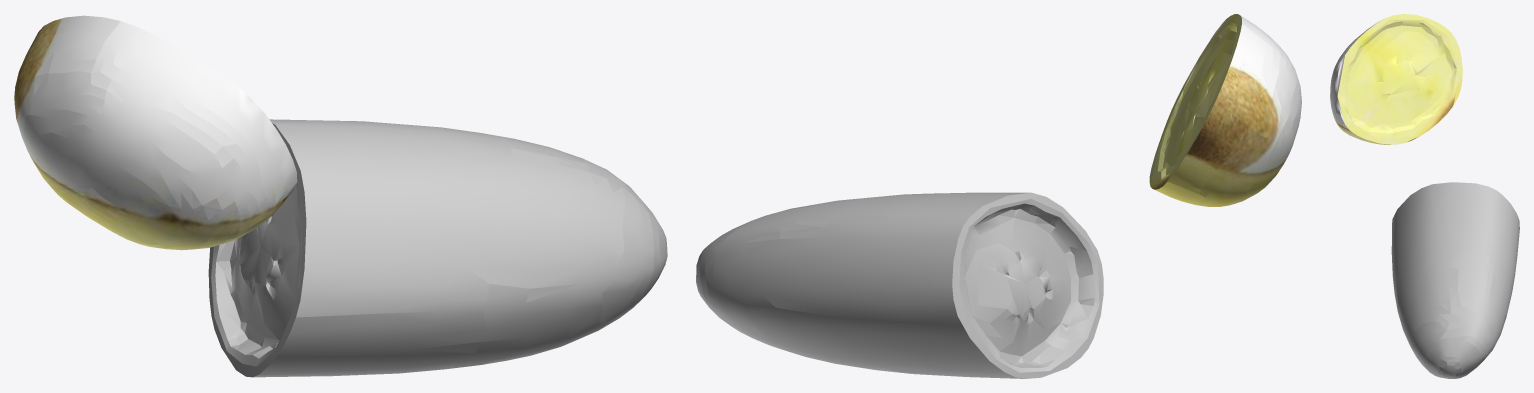
The model's file is cutPotato.obj.
3 renders of one model, left to right at view 1: azimuth 30°, elevation 25°; view 2: azimuth 150°, elevation 25°; view 3: azimuth 270°, elevation 25°, orthographic. The views are drawn at different scales.
Parts seen in each view (by area): view 1: tomato.004, tomato.003; view 2: tomato.004, tomato.003; view 3: tomato.004, tomato.003.
Boxes of the visible parts, x1=… form: tomato.004: x1=208, y1=119, x2=667, y2=377; tomato.003: x1=14, y1=15, x2=297, y2=250; tomato.004: x1=696, y1=192, x2=1103, y2=378; tomato.003: x1=1149, y1=14, x2=1301, y2=206; tomato.004: x1=1391, y1=182, x2=1519, y2=378; tomato.003: x1=1330, y1=14, x2=1462, y2=144.
Size of the model in its own units: 43.18 by 28.69 by 21.05.
